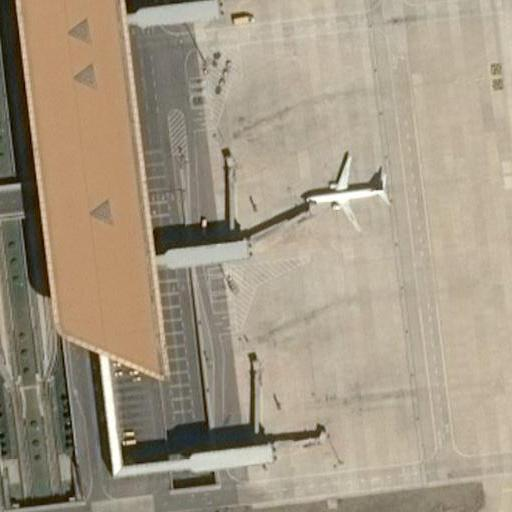Aircraft: (303, 148, 396, 226)
